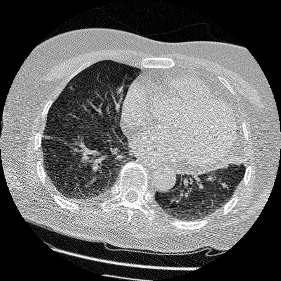nodule: (222, 183, 226, 187)
